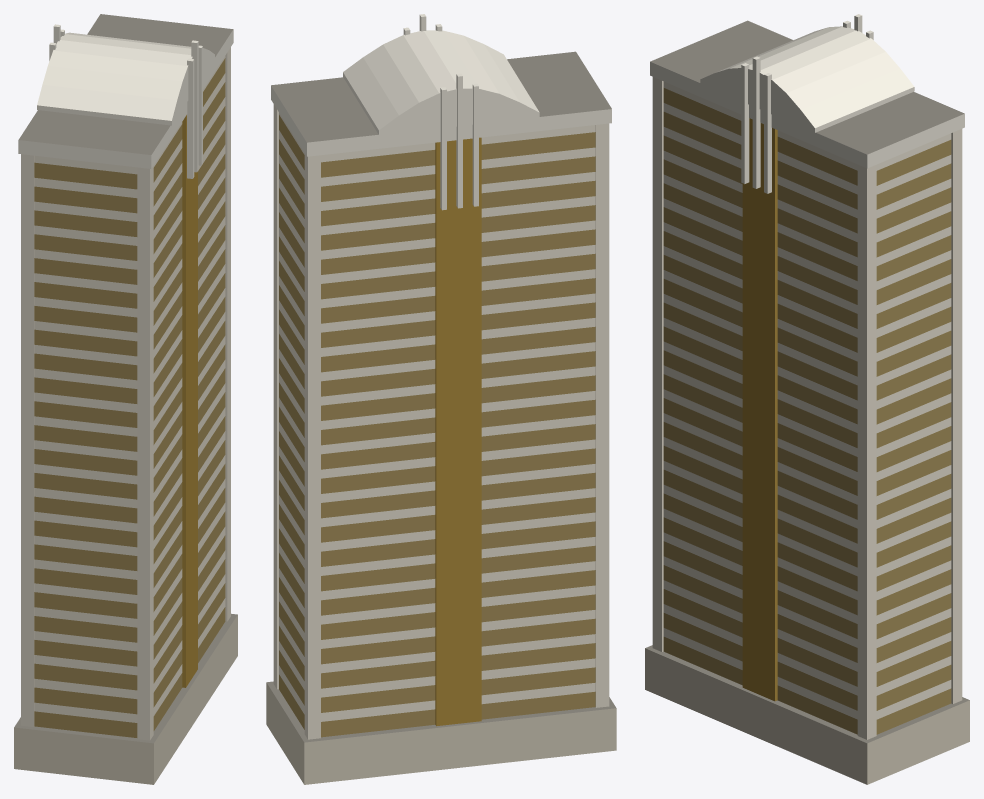
The model's file is the_signature_at_mgm_g_w95223231.glb.
3 views of the same model, side by side, from view 1: azimuth 30°, elevation 25°; view 2: azimuth 150°, elevation 25°; view 3: azimuth 270°, elevation 25° (orthographic).
Visible parts, largest first — view 1: Tower; view 2: Tower; view 3: Tower.
Boxes of the visible parts, x1,y1,x2,y2 form: Tower: (14, 14, 237, 784); Tower: (266, 14, 616, 784); Tower: (645, 14, 969, 784).
Size of the model in its own units: 64.27 by 147 by 63.76.
